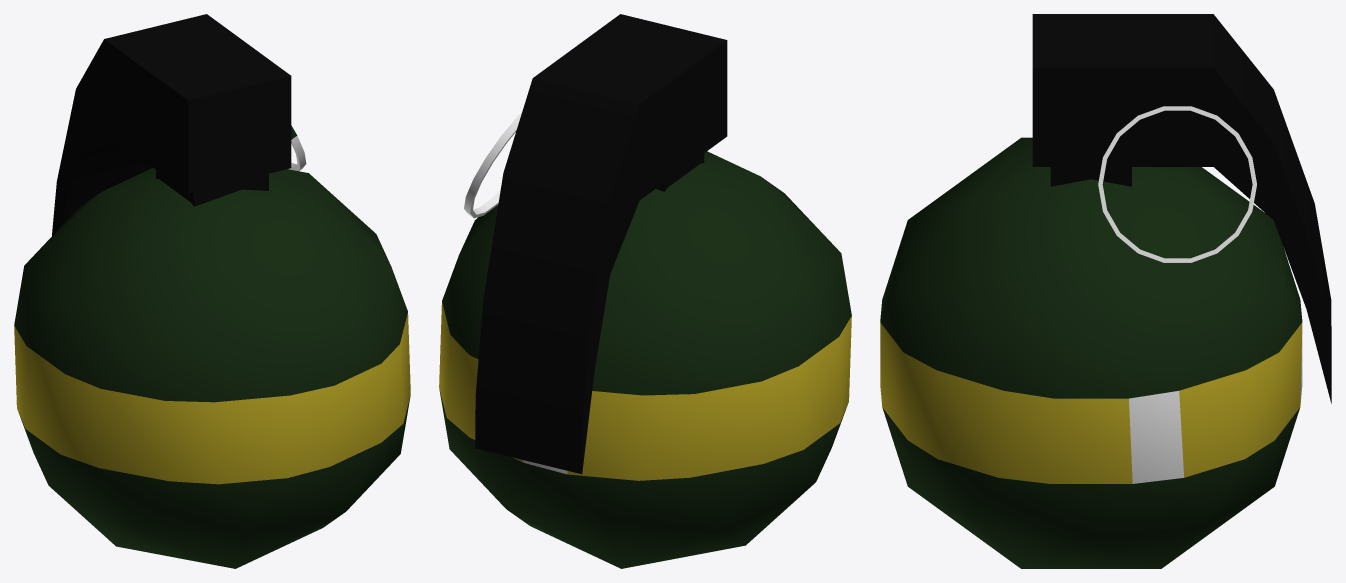
File: Grenade.FBX
The picture shows the model from 3 angles, left to right: view 1: azimuth 30°, elevation 25°; view 2: azimuth 150°, elevation 25°; view 3: azimuth 270°, elevation 25°; orthographic projection. The views are drawn at different scales.
Parts seen in each view (by area): view 1: GeoSphere001; view 2: GeoSphere001; view 3: GeoSphere001.
Part boxes in pixels (<box>): GeoSphere001: <box>14,14,410,568</box>; GeoSphere001: <box>439,14,851,568</box>; GeoSphere001: <box>880,14,1331,568</box>.
Size of the model in its own units: 0.1682 by 0.2292 by 0.1811.
